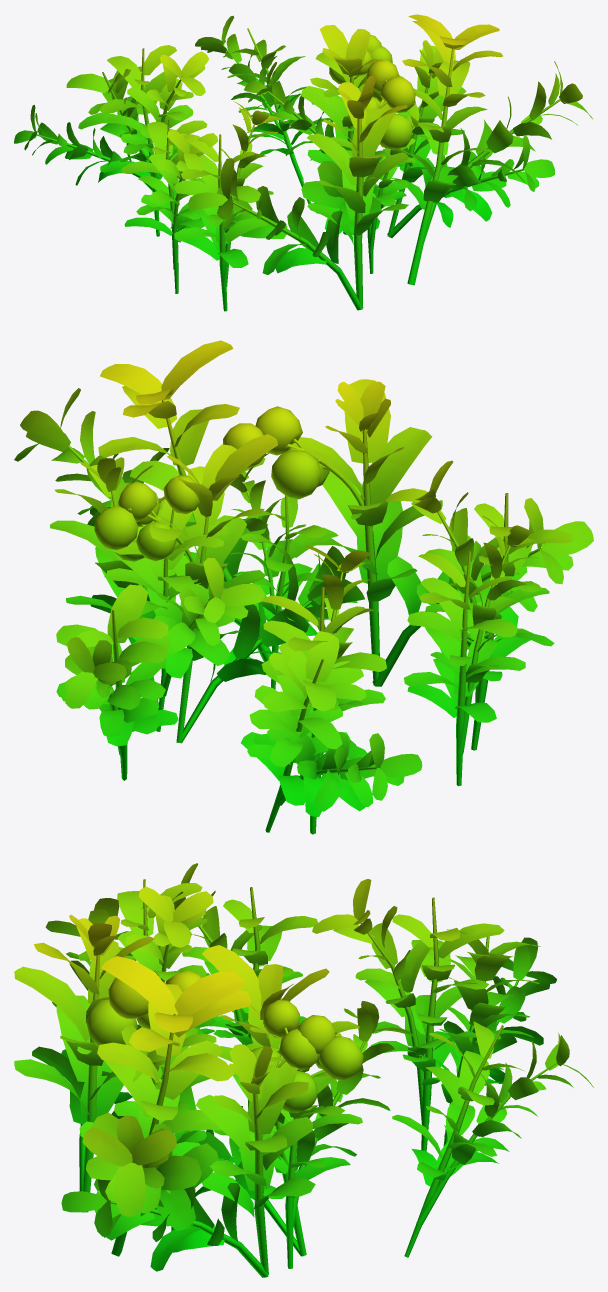
The model's file is Lingonberry_LOD1_Var6_wjhjahlqx.fbx.
The picture shows the model from 3 angles, top to bottom: view 1: azimuth 30°, elevation 25°; view 2: azimuth 150°, elevation 25°; view 3: azimuth 270°, elevation 25°; orthographic projection. The views are drawn at different scales.
Visible parts, largest first — view 1: _8023_Var6_LOD1; view 2: _8023_Var6_LOD1; view 3: _8023_Var6_LOD1.
Part boxes in pixels (x1,y1,x2,y2): _8023_Var6_LOD1: [14, 14, 593, 311]; _8023_Var6_LOD1: [14, 340, 593, 834]; _8023_Var6_LOD1: [14, 863, 593, 1277].
Bounding box in the file's own units: 26.22 × 13.66 × 22.43.
